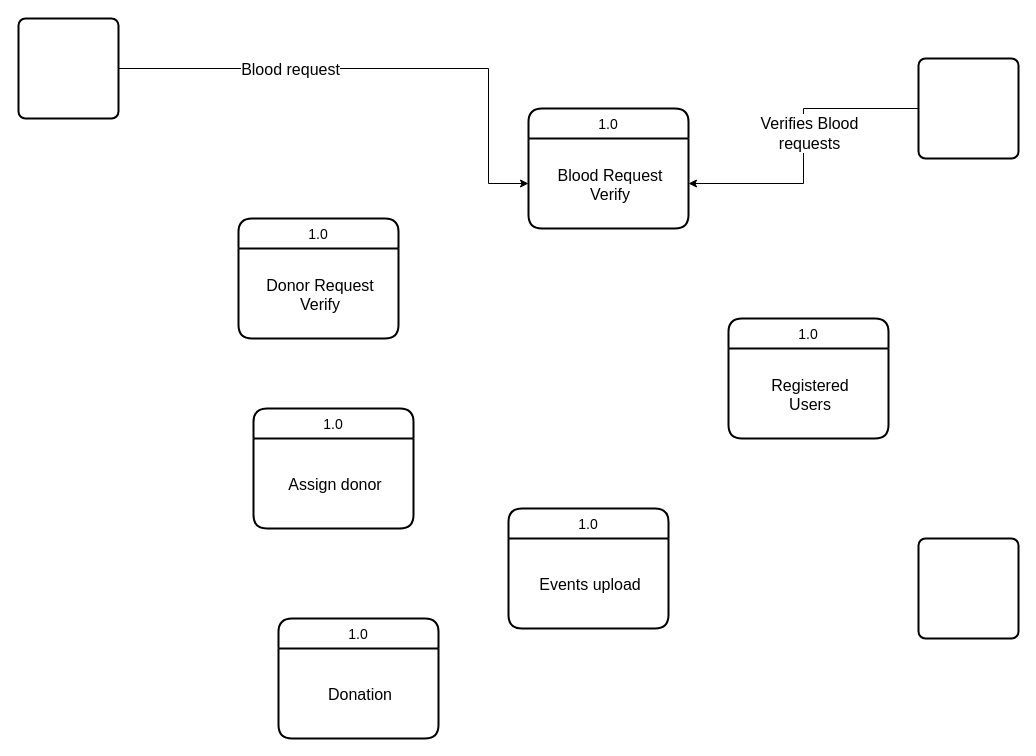
The diagram is 1036 pixels wide and 756 high, and some of its shapes have lost their labels. The centre of each missing label's shape, as x and y in pixels:
"Admin" belongs at (x=968, y=108).
"Donors" belongs at (x=968, y=588).
"Seekers" belongs at (x=68, y=68).
